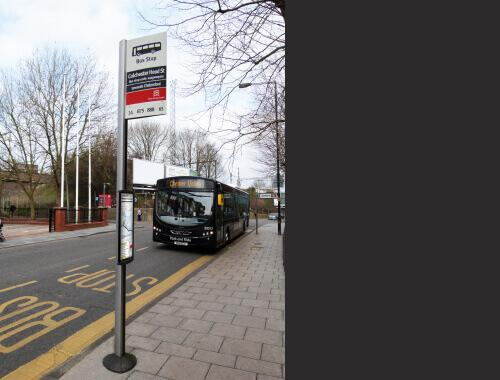bus: (148, 173, 264, 257)
traffic sign: (86, 30, 189, 375)
